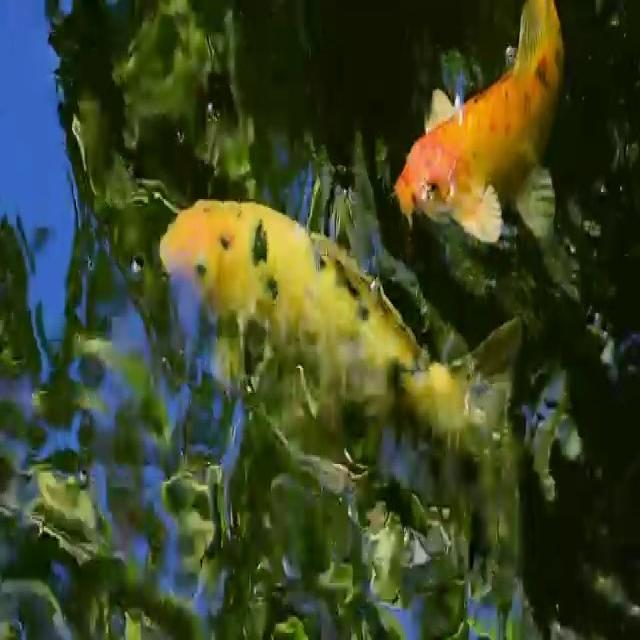fish: (143, 196, 528, 482), (374, 7, 592, 254)
